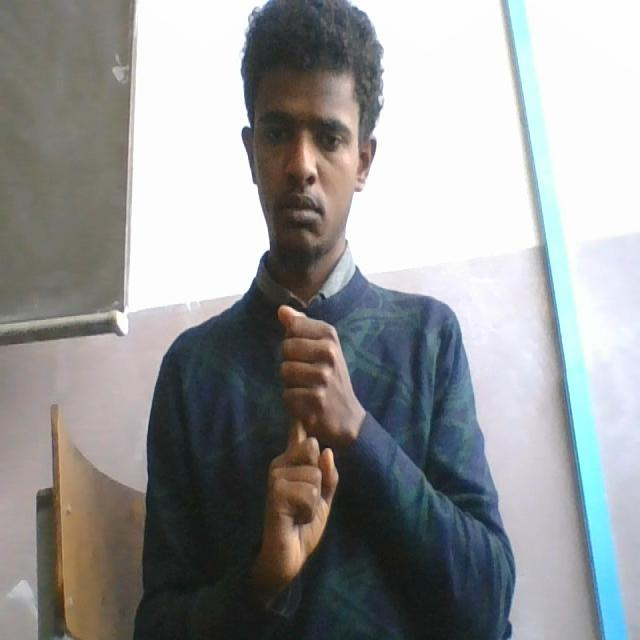meyaz: (257, 297, 350, 604)
